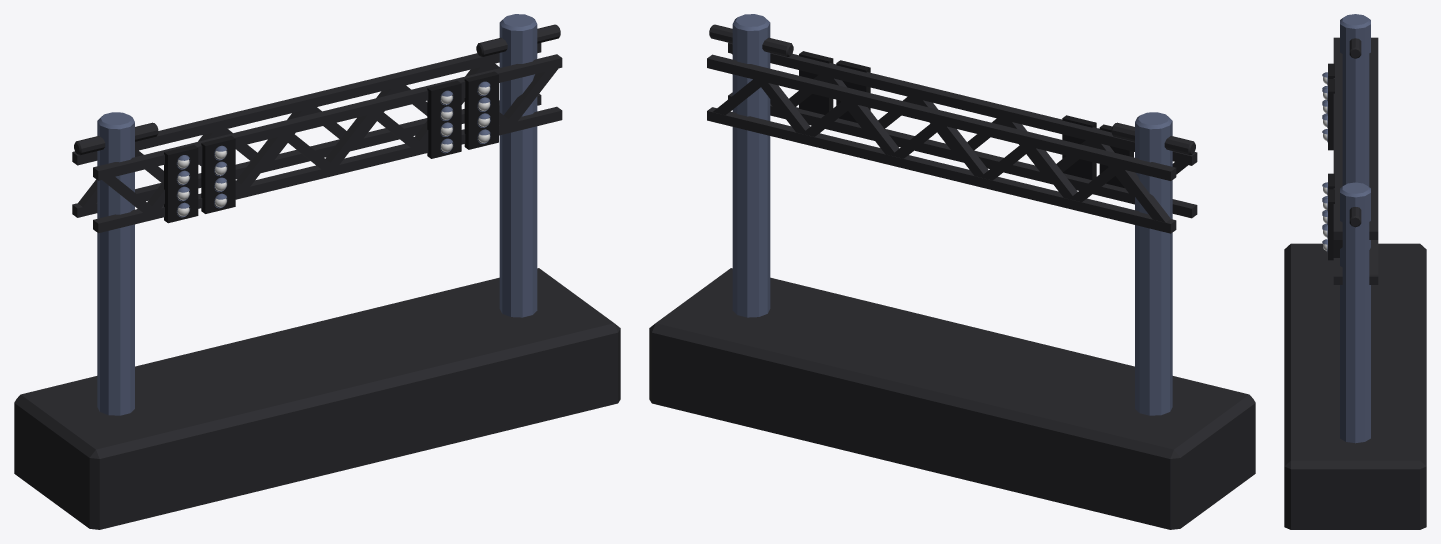
Rendered from Start_indecator_T2.fbx.
3 renders of one model, left to right at view 1: azimuth 30°, elevation 25°; view 2: azimuth 150°, elevation 25°; view 3: azimuth 270°, elevation 25°, orthographic. The views are drawn at different scales.
Parts seen in each view (by area): view 1: start_pillar2_T2; view 2: start_pillar2_T2; view 3: start_pillar2_T2.
Boxes of the visible parts, x1,y1,x2,y2 form: start_pillar2_T2: [14, 14, 620, 529]; start_pillar2_T2: [649, 14, 1255, 529]; start_pillar2_T2: [1284, 14, 1426, 529].
Size of the model in its own units: 1697 by 1120 by 458.
Materials: 2 (1 with a texture image).
